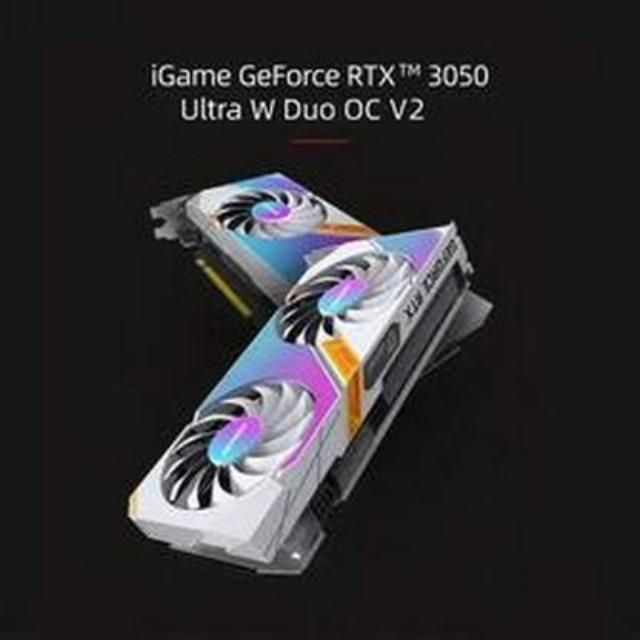GPU: (130, 148, 492, 574)
